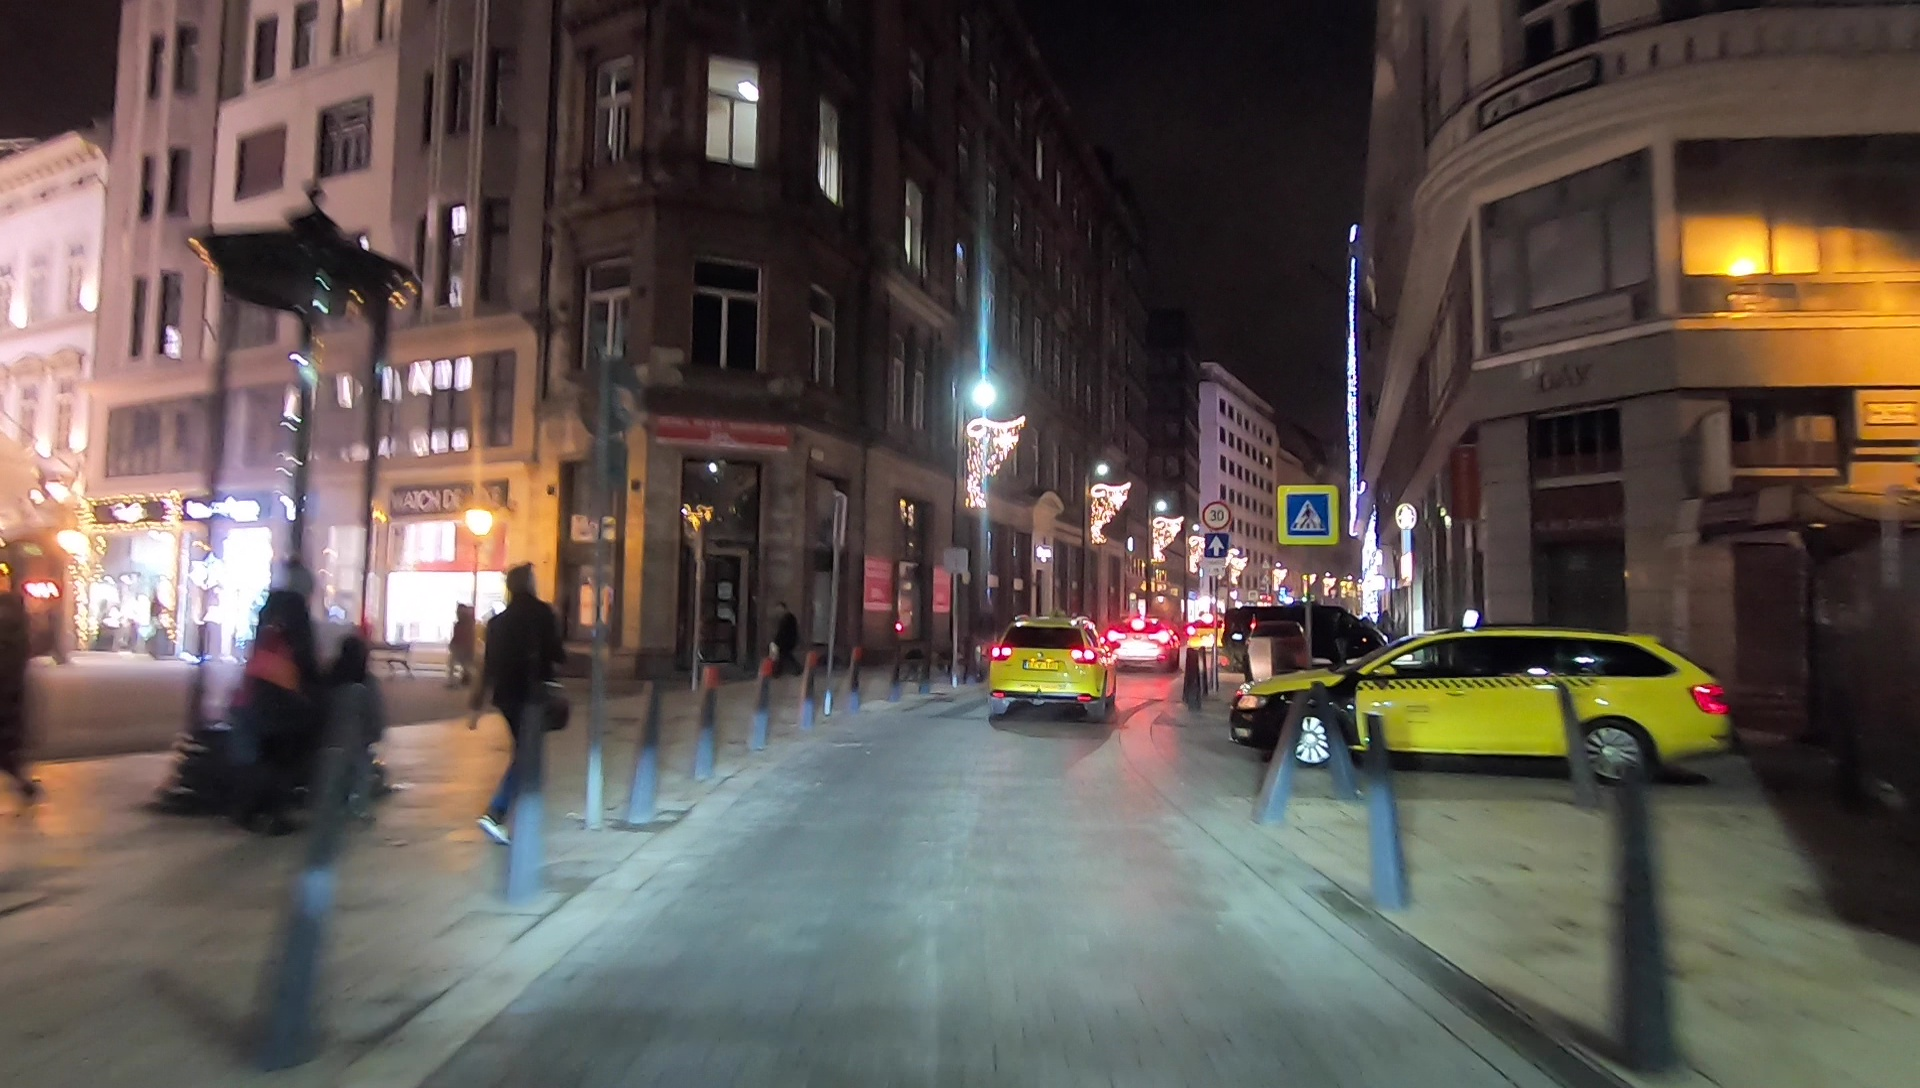person: (478, 565, 564, 847), (251, 549, 321, 858), (325, 634, 386, 837), (764, 599, 804, 684), (445, 602, 475, 691)
